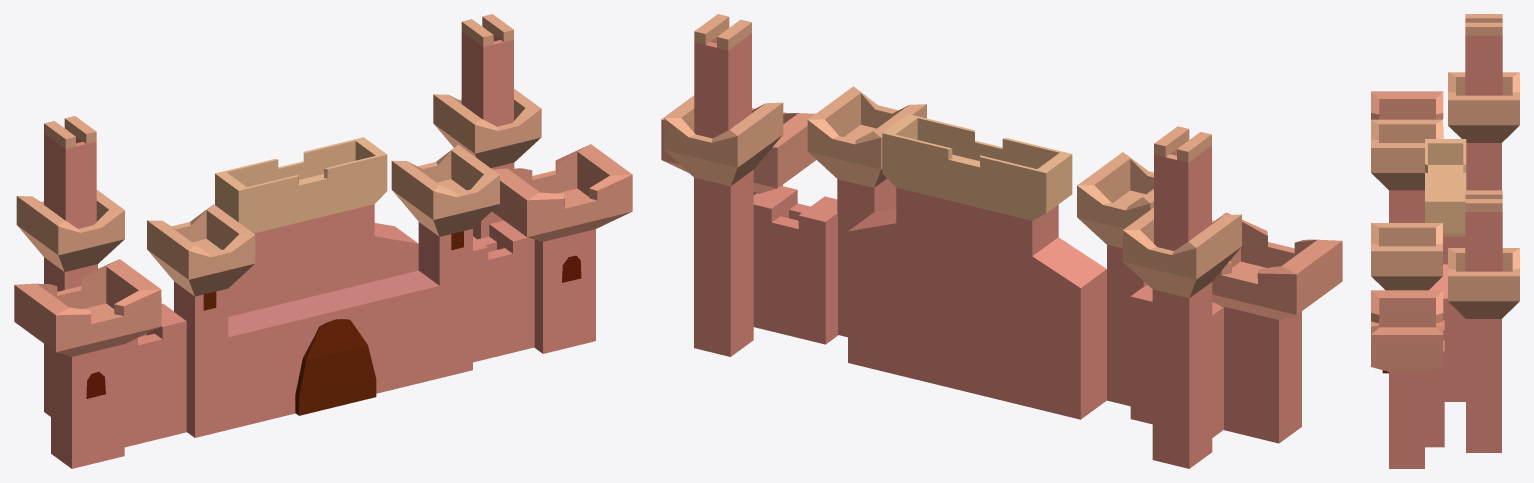
Rendered from Castle.fbx.
The picture shows the model from 3 angles, left to right: view 1: azimuth 30°, elevation 25°; view 2: azimuth 150°, elevation 25°; view 3: azimuth 270°, elevation 25°; orthographic projection. The views are drawn at different scales.
Parts seen in each view (by area): view 1: Cube; view 2: Cube; view 3: Cube.
Boxes of the visible parts, x1=… form: Cube: x1=14, y1=14, x2=632, y2=468; Cube: x1=661, y1=14, x2=1342, y2=468; Cube: x1=1371, y1=14, x2=1519, y2=468.
Size of the model in its own units: 1865 by 891 by 482.
